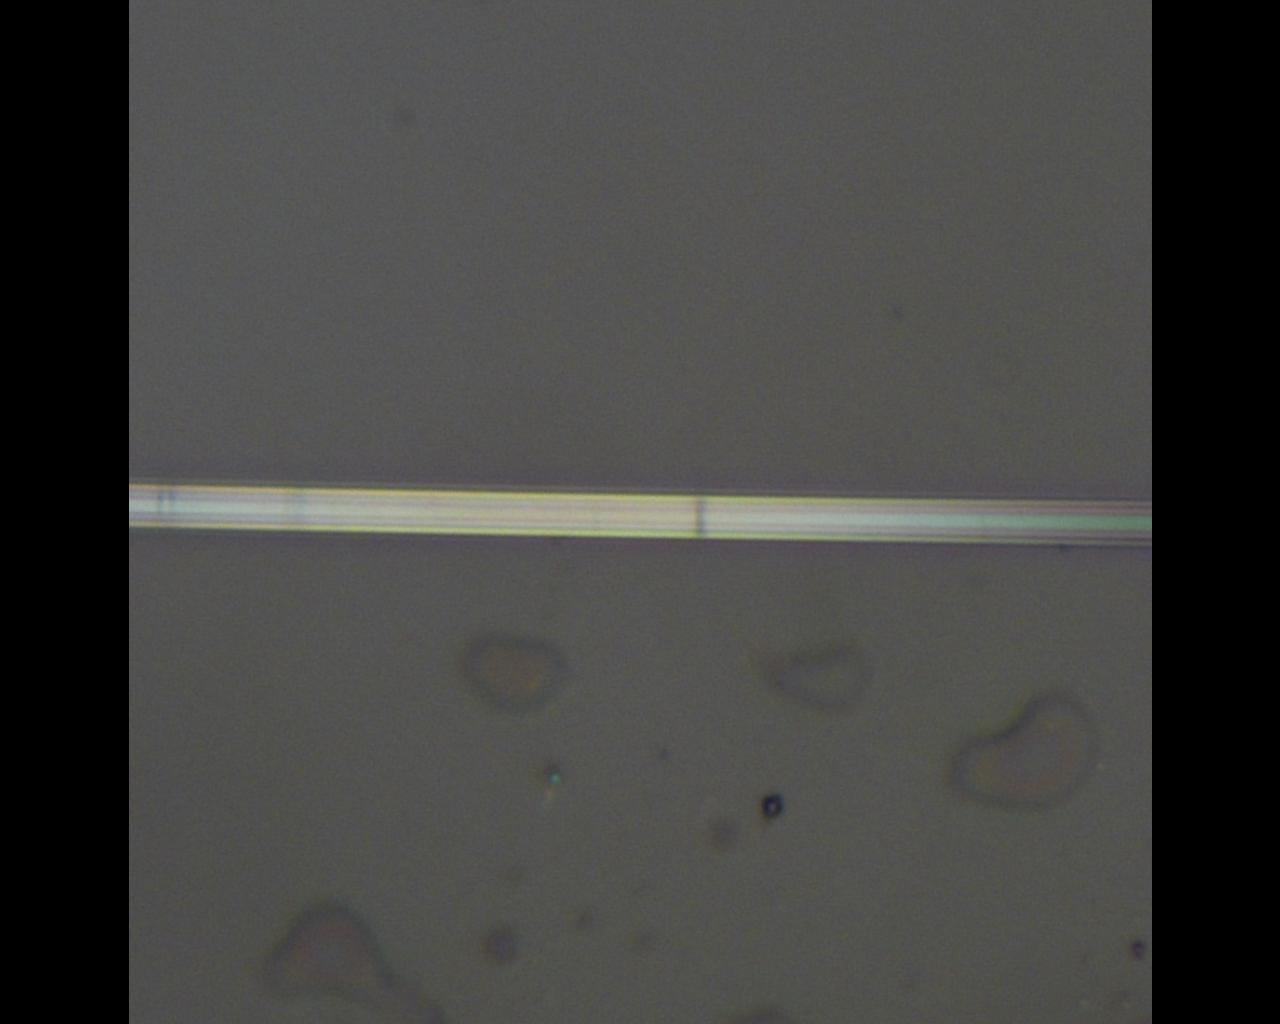fiber: (550, 0, 996, 450), (1038, 573, 1225, 1024), (0, 573, 50, 976)
